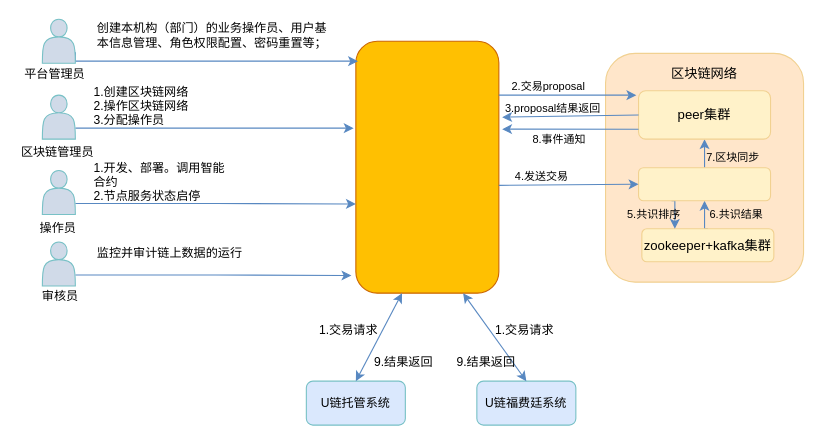
The diagram is 823 pixels wide and 444 high, and some of its shapes have lost their labels. Here are the shapes that lost their labels. From the top down, the centre of each, then its label:
pixel 427 166: 区块链服务平台
pixel 704 184: orderer集群
